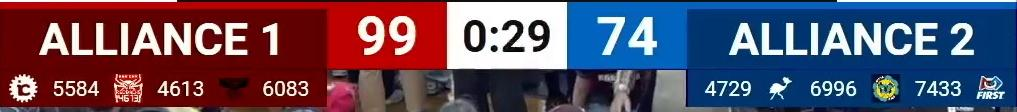blue_score: (594, 13, 662, 58)
red_score: (355, 13, 418, 60)
team_number: (51, 76, 102, 100), (809, 79, 859, 98), (703, 79, 753, 98), (913, 80, 964, 98), (262, 80, 311, 98), (156, 80, 204, 98)
timer: (462, 16, 553, 56)
